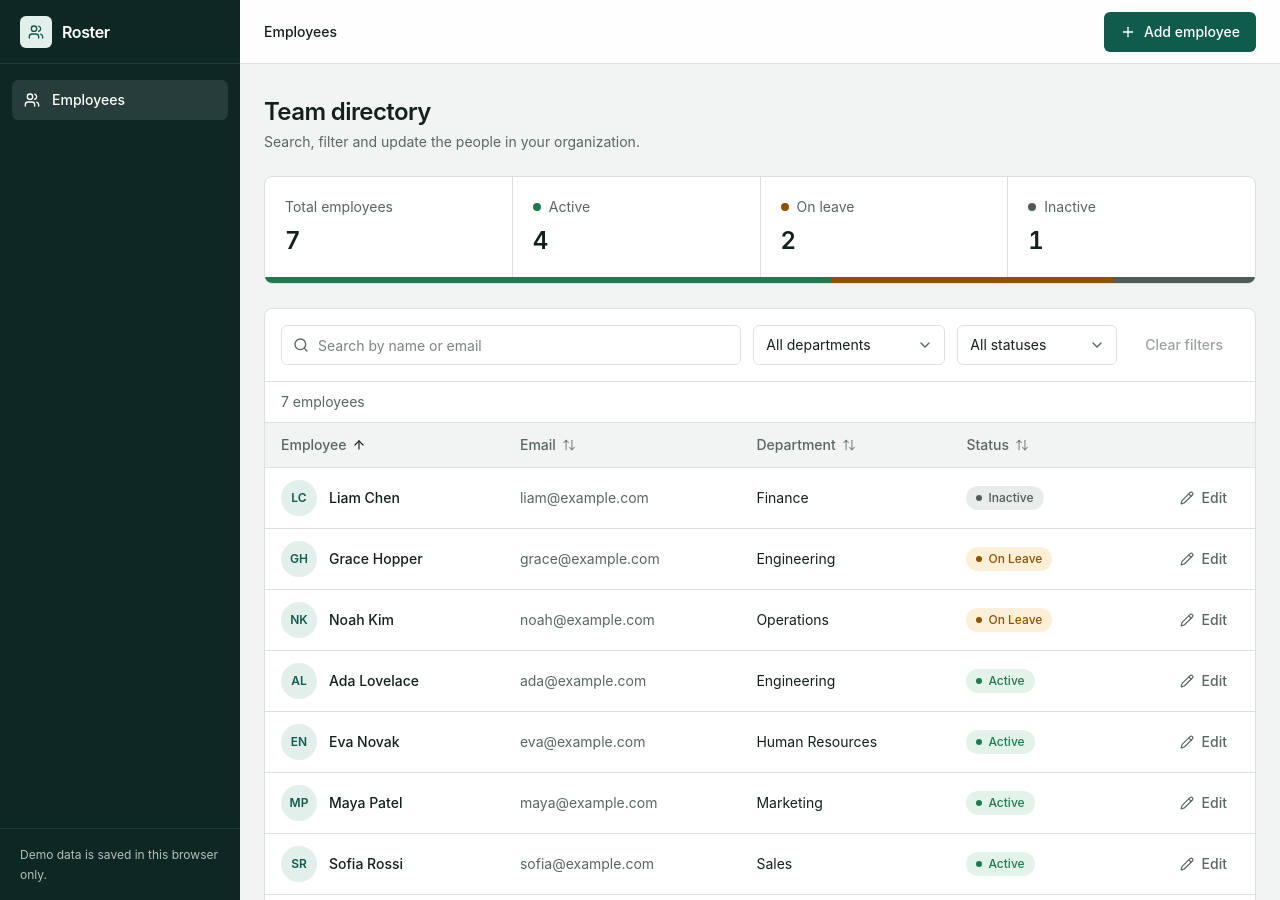
Test case: EmployeesPage: edit › prefills the form, saves changes and keeps the same employee
Check: the text "Ada Lovelace" is shown, box [329, 671, 419, 691]
Click the button with aria-label "Edit Ada Lovelace" at (1203, 681), box [1168, 665, 1239, 697]
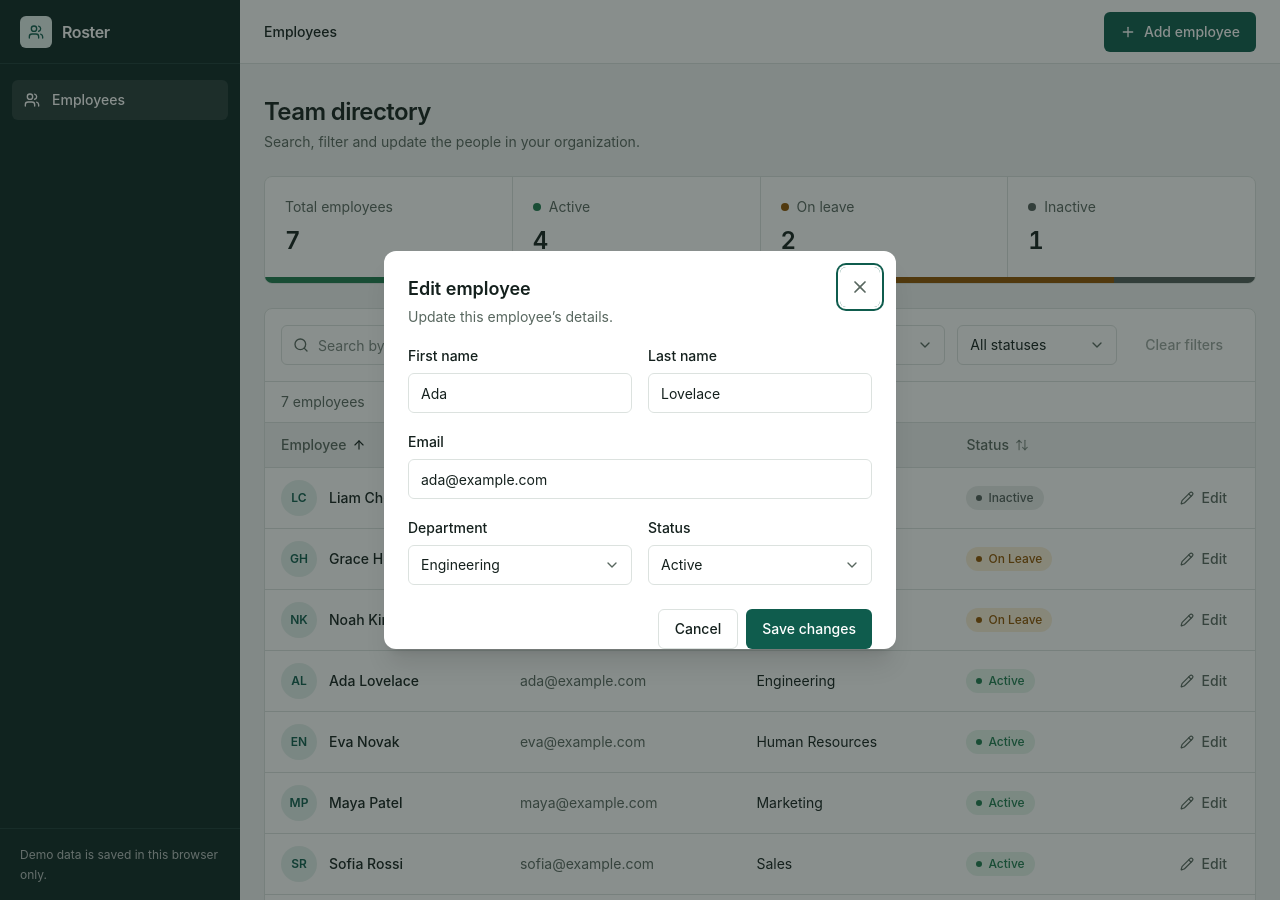
Check: the field labelled "First name" holds "Ada", box [408, 373, 632, 413]
Check: the field labelled "Email" holds "ada@example.com", box [408, 459, 872, 499]
Check: the dropdown labelled "Department" shows "Engineering", box [408, 545, 632, 585]
Replace the text in the field labelled "Last name" with "King" at (760, 393), box [648, 373, 872, 413]
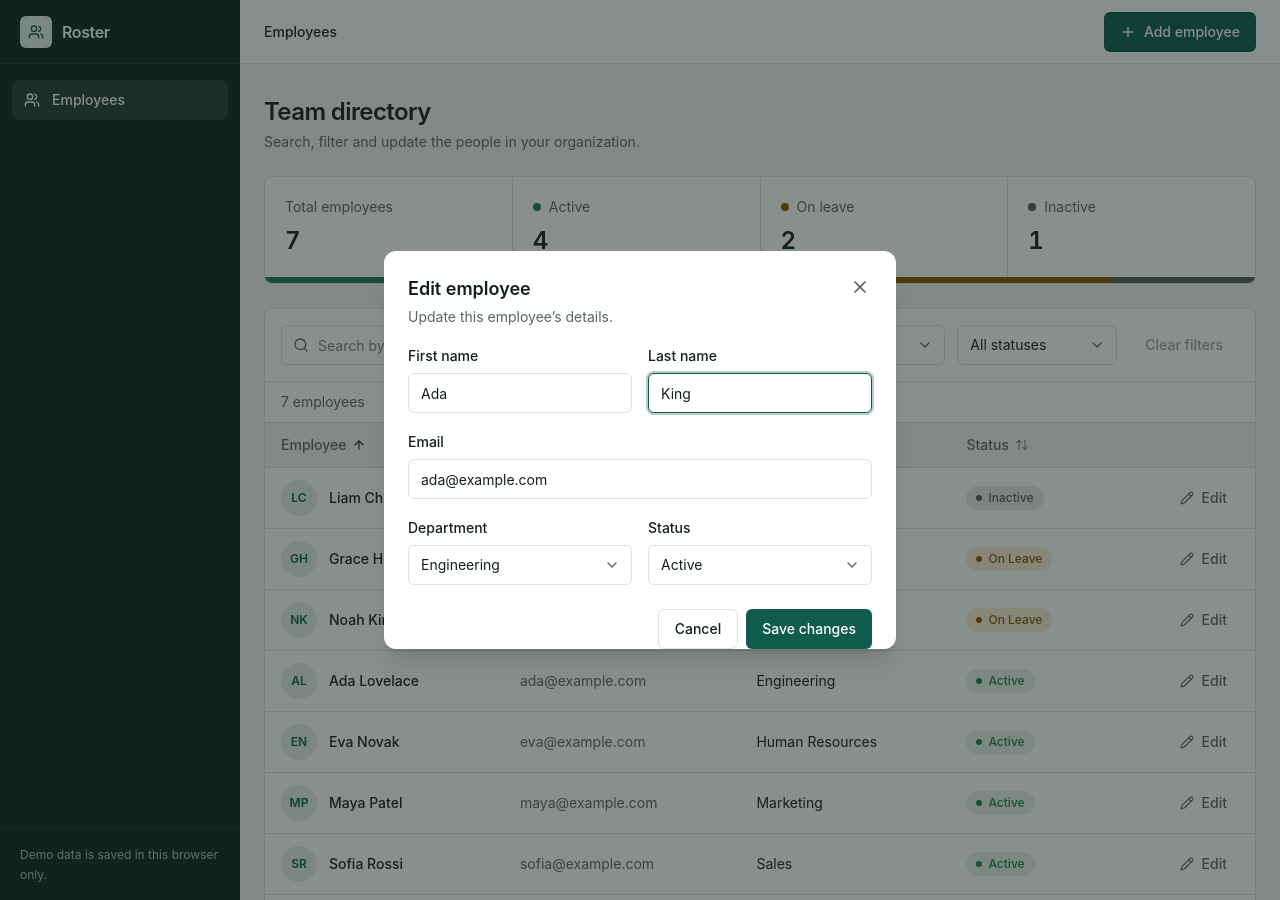
Select "On Leave" in the dropdown labelled "Status" at (760, 565), box [648, 545, 872, 585]
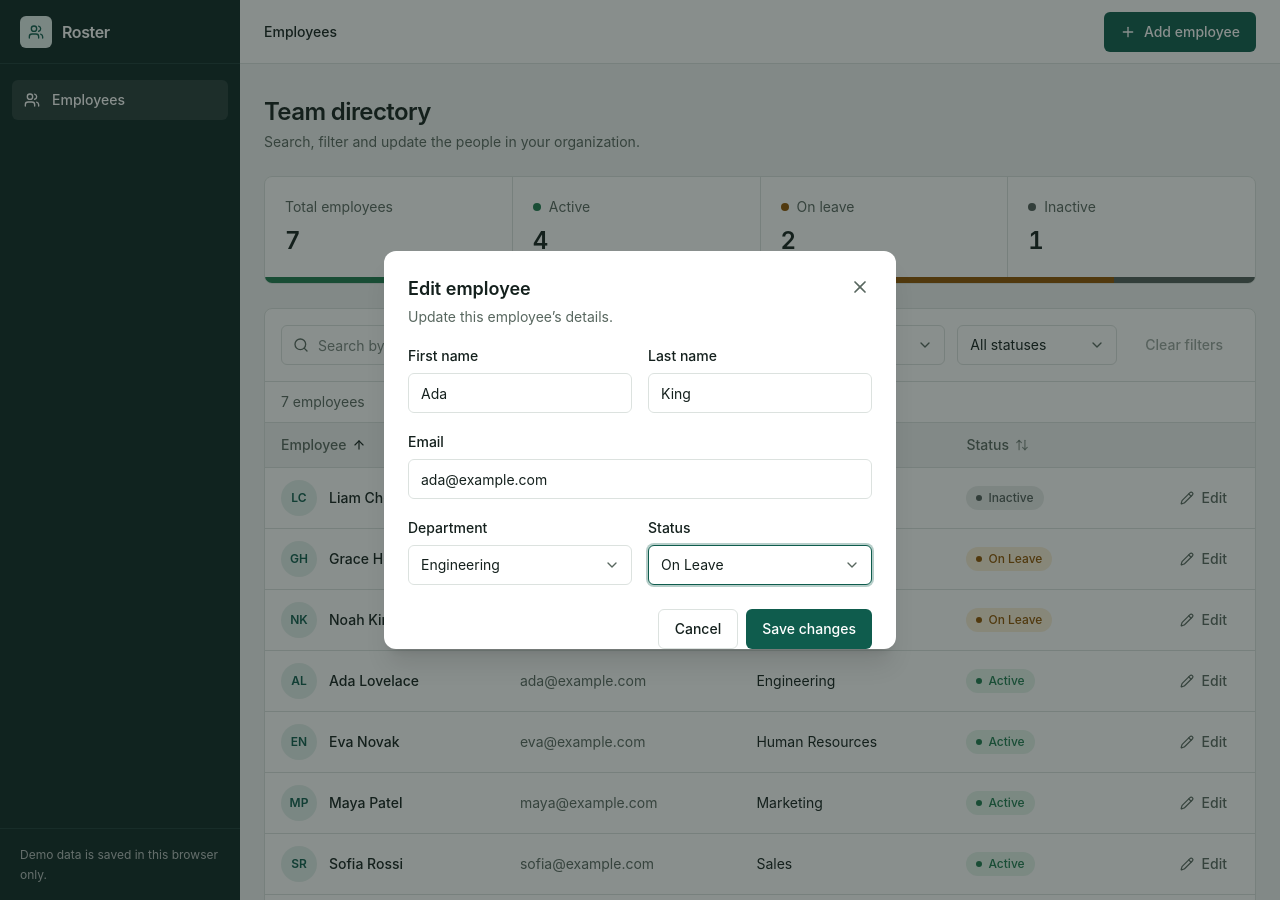
Click the button "Save changes" at (809, 629), box [746, 609, 872, 649]
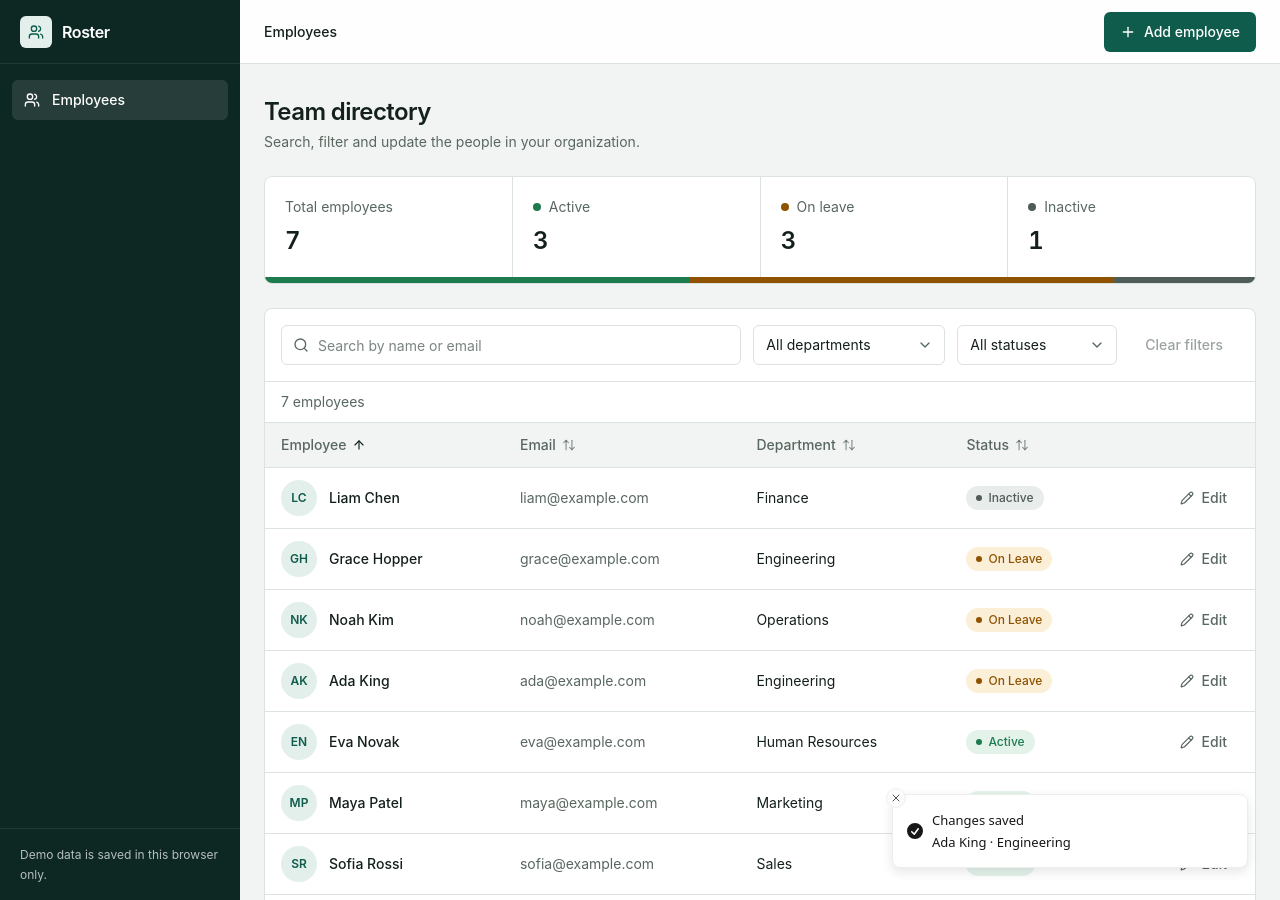
Check: the dialog is gone
Check: the text "Ada King" is shown, box [329, 671, 390, 691]
Check: the text "Ada Lovelace" is gone
